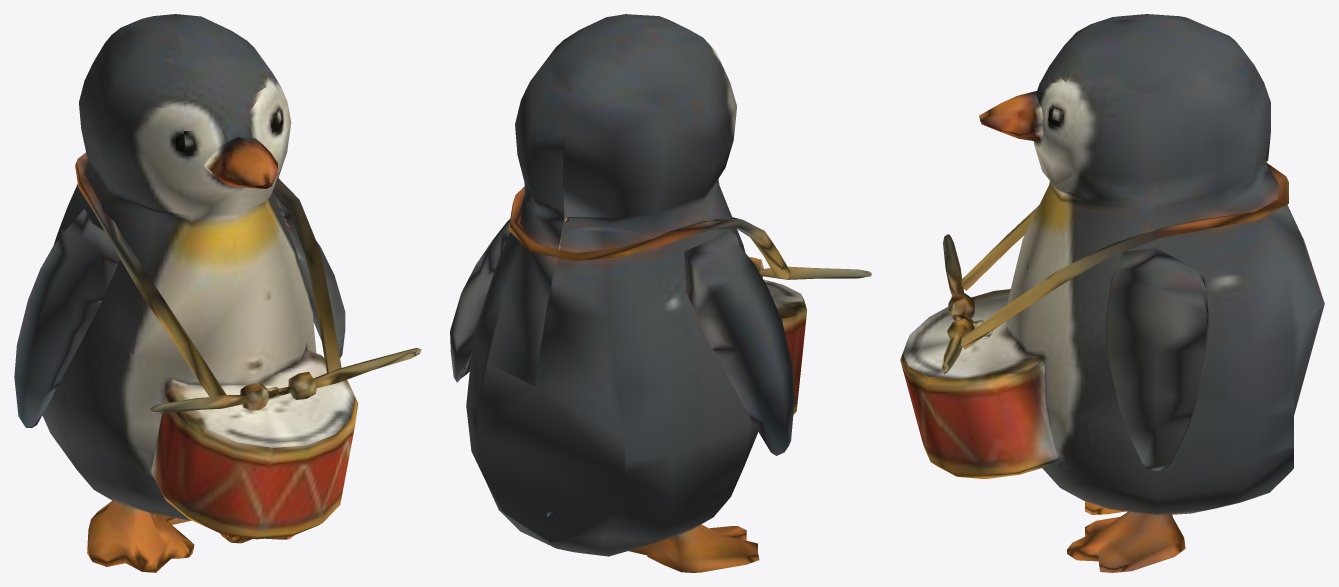
The model's file is penguin-09-23-drum-tin-penguin.gltf.
The picture shows the model from 3 angles, left to right: view 1: azimuth 30°, elevation 25°; view 2: azimuth 150°, elevation 25°; view 3: azimuth 270°, elevation 25°; orthographic projection. The views are drawn at different scales.
Parts seen in each view (by area): view 1: penguin-09-23-drum-tin-penguin; view 2: penguin-09-23-drum-tin-penguin; view 3: penguin-09-23-drum-tin-penguin.
Boxes of the visible parts, x1=… form: penguin-09-23-drum-tin-penguin: x1=14, y1=14, x2=421, y2=572; penguin-09-23-drum-tin-penguin: x1=450, y1=14, x2=871, y2=572; penguin-09-23-drum-tin-penguin: x1=900, y1=14, x2=1324, y2=572.
Size of the model in its own units: 0.1559 by 0.2344 by 0.1805.
1 material, 1 textured.
